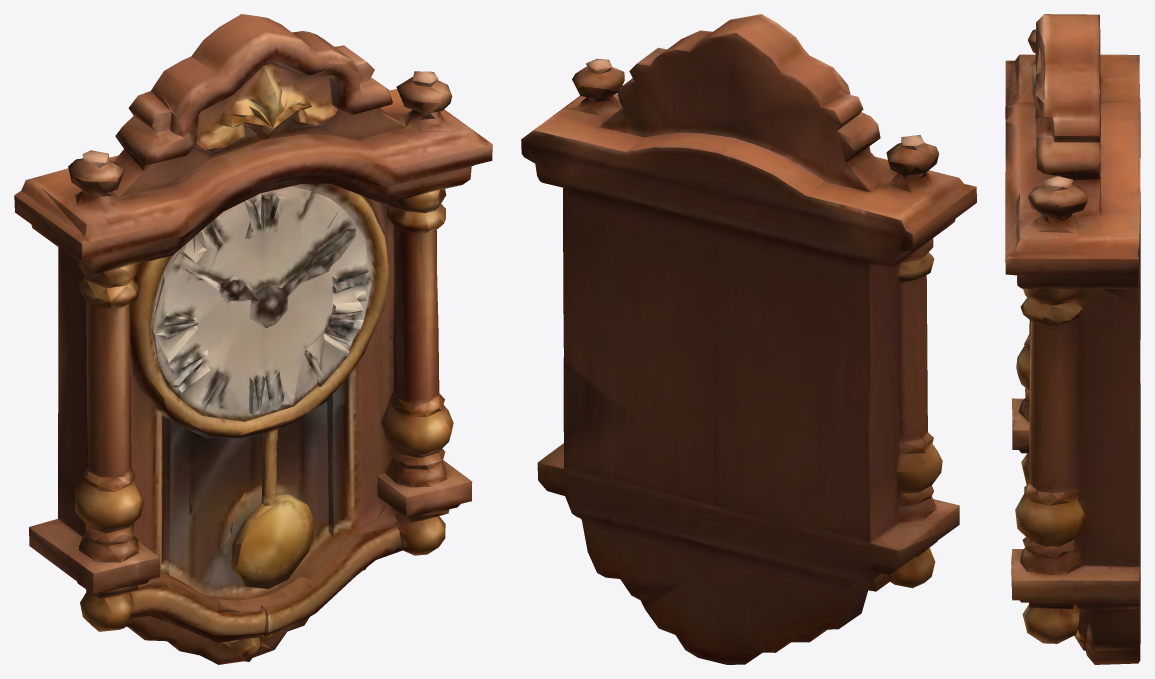
Rendered from wall09.glb.
3 views of the same model, side by side, from view 1: azimuth 30°, elevation 25°; view 2: azimuth 150°, elevation 25°; view 3: azimuth 270°, elevation 25° (orthographic). The views are drawn at different scales.
Size of the model in its own units: 0.2114 by 0.3172 by 0.0612.
Materials: 1 (1 with a texture image).
